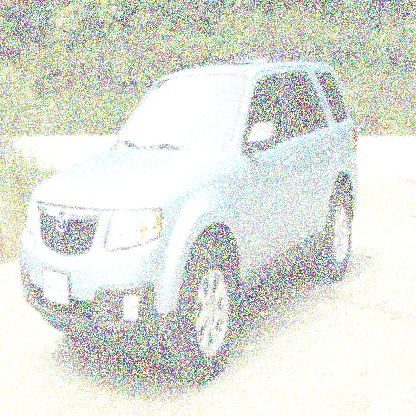Vehicle: (19, 54, 362, 390)
